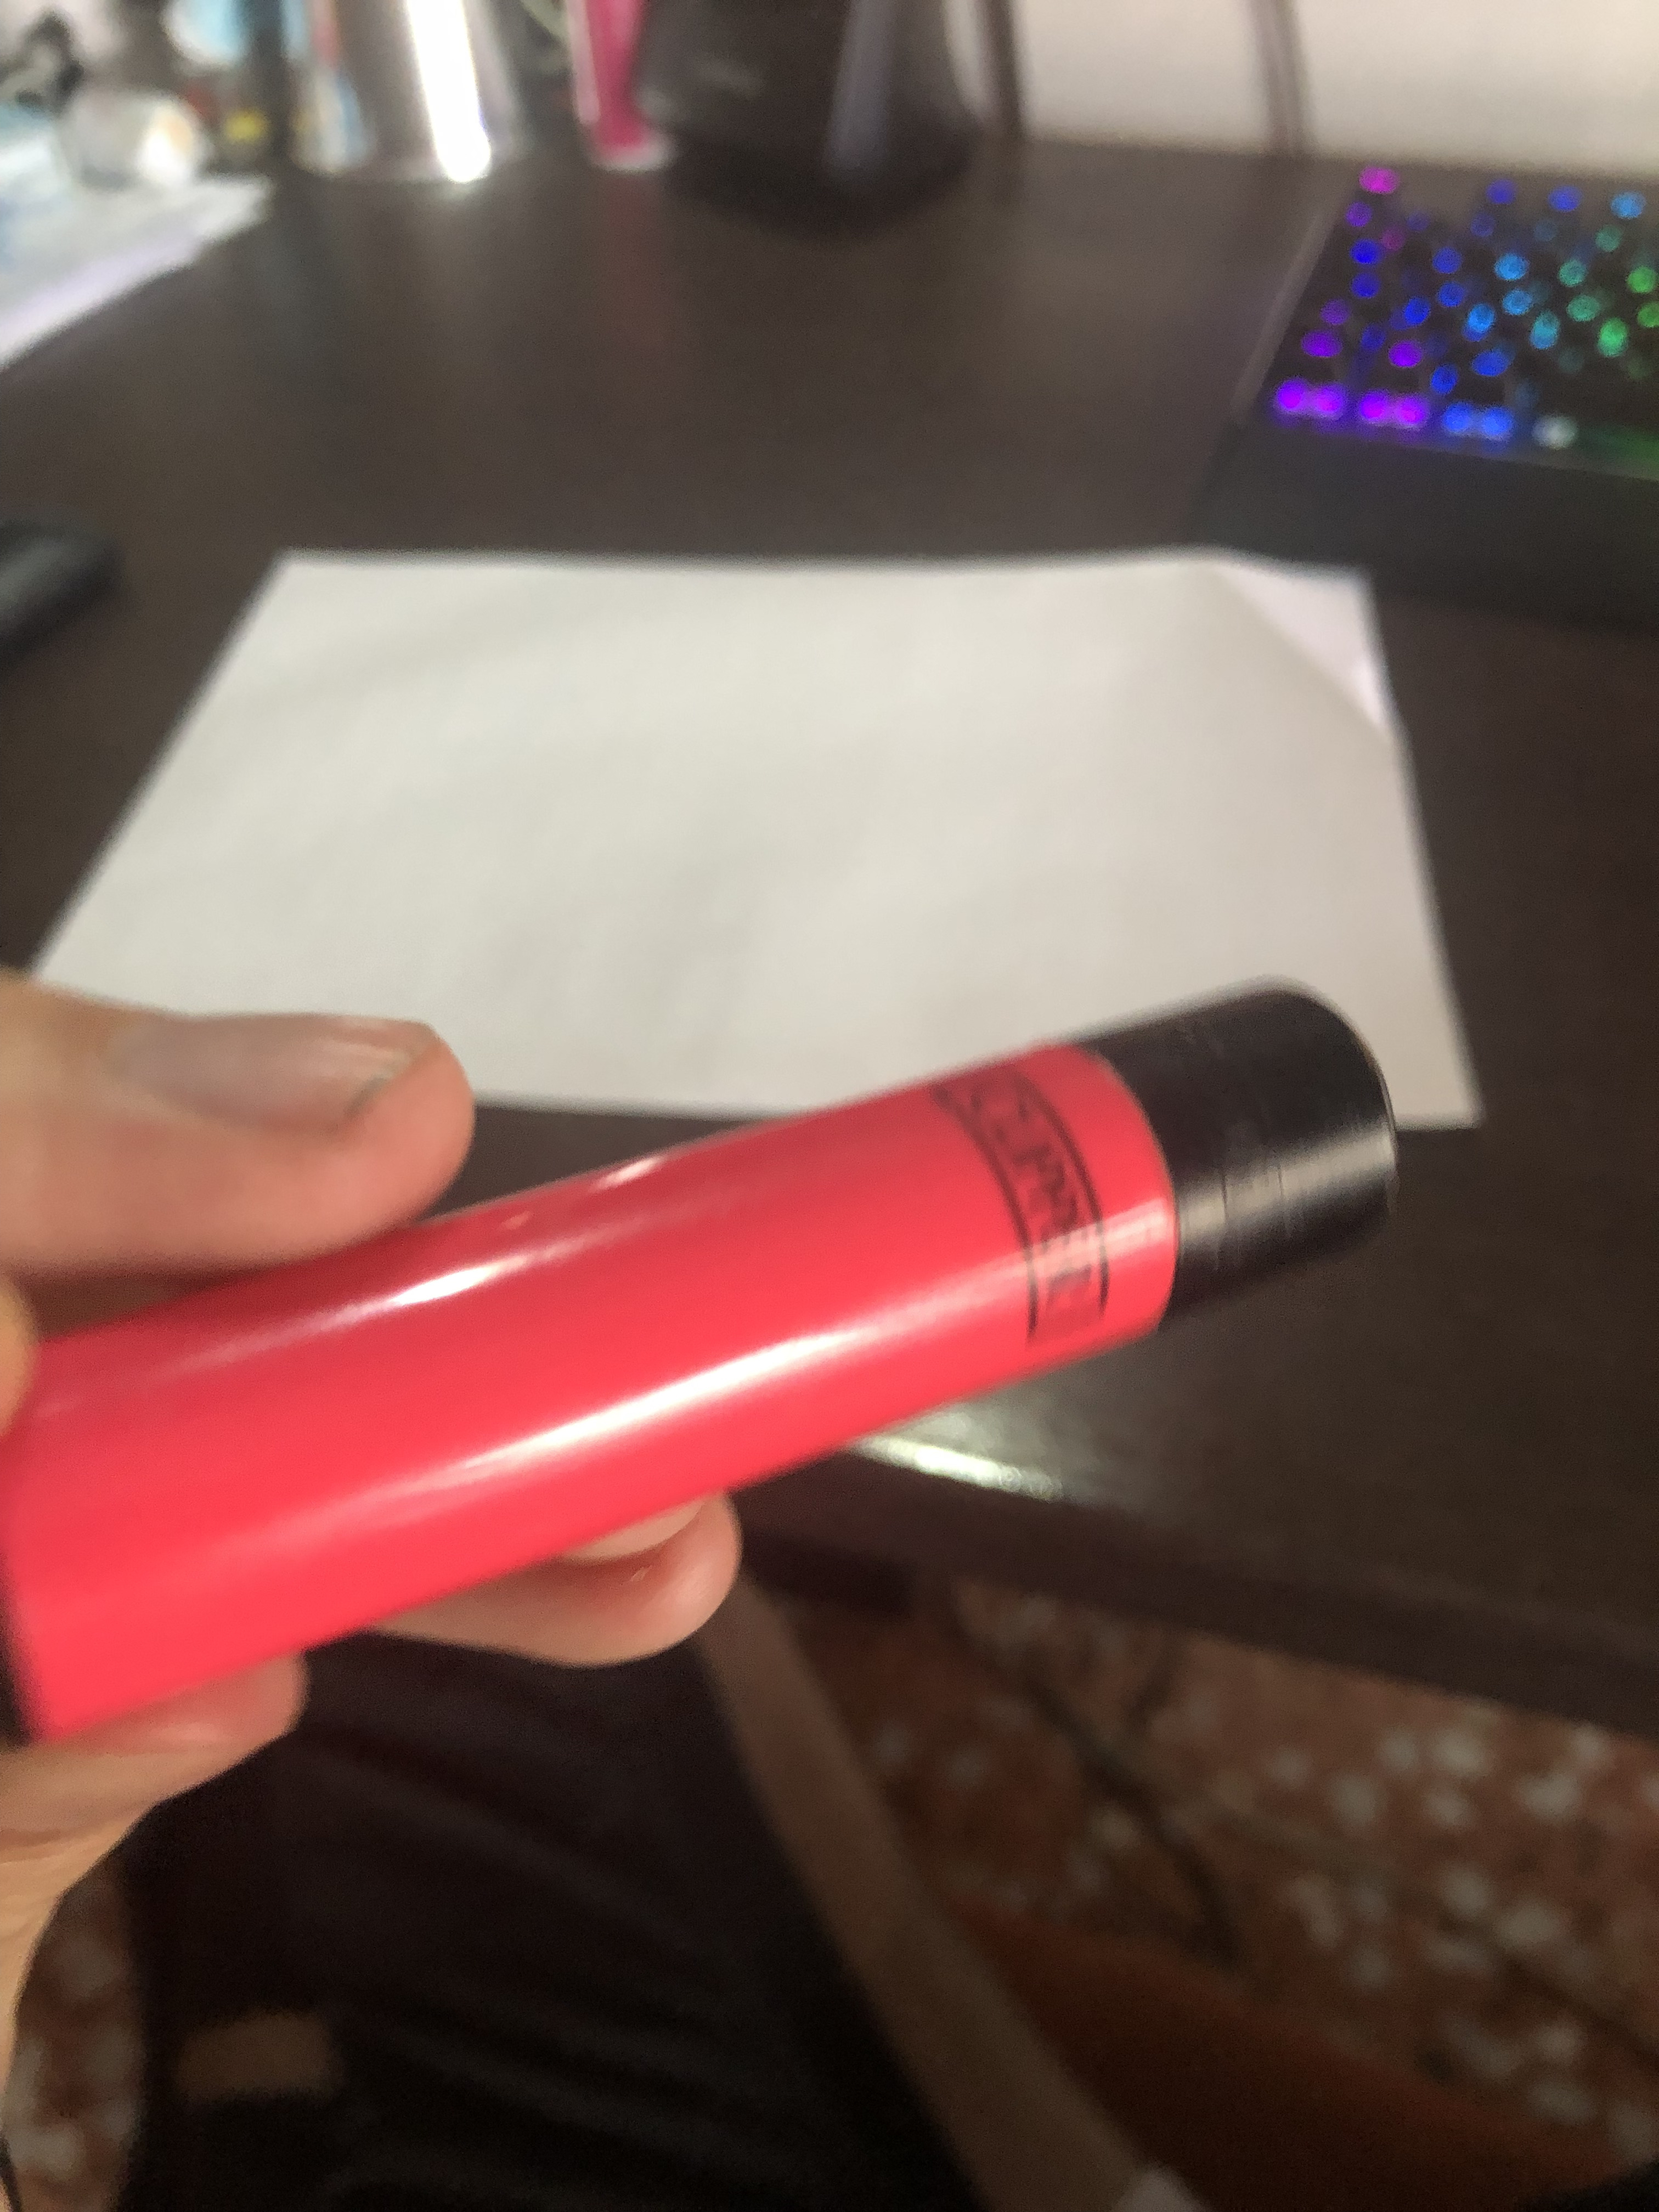Mechero: (0, 907, 1434, 1731)
